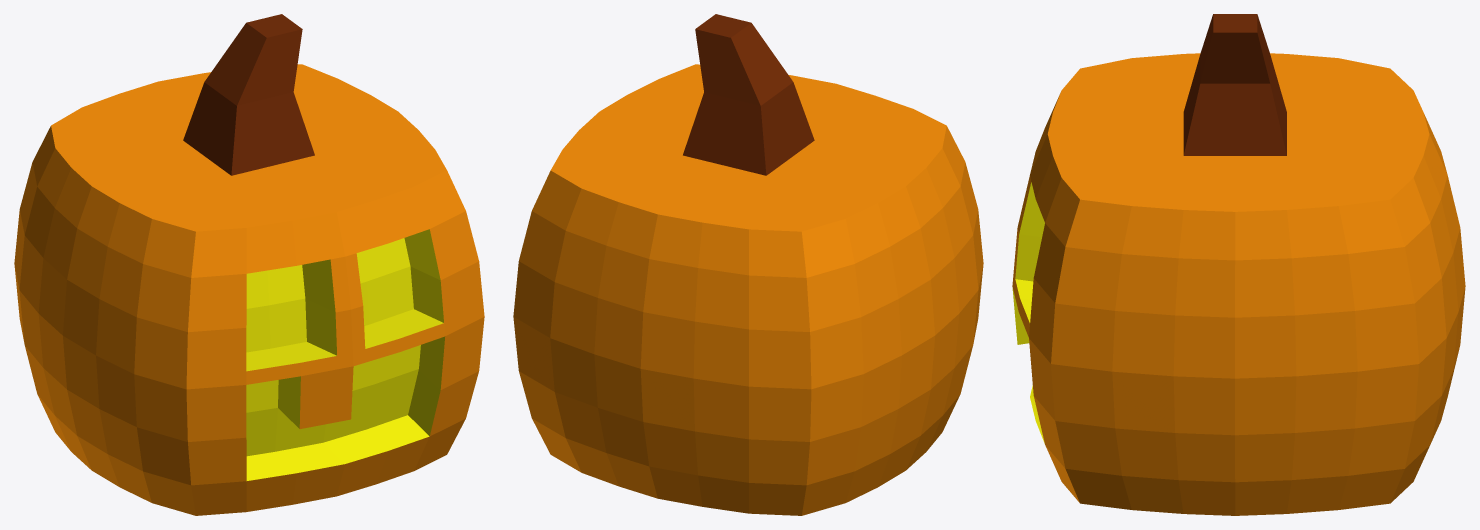
Rendered from jackolantern2.fbx.
3 renders of one model, left to right at view 1: azimuth 30°, elevation 25°; view 2: azimuth 150°, elevation 25°; view 3: azimuth 270°, elevation 25°, orthographic. The views are drawn at different scales.
Visible parts, largest first — view 1: Cube; view 2: Cube; view 3: Cube.
Part boxes in pixels (bbox=[...]): Cube: bbox=[14, 14, 484, 515]; Cube: bbox=[513, 14, 983, 515]; Cube: bbox=[1012, 14, 1465, 515].
Bounding box in the file's own units: 290 × 304 × 292.
